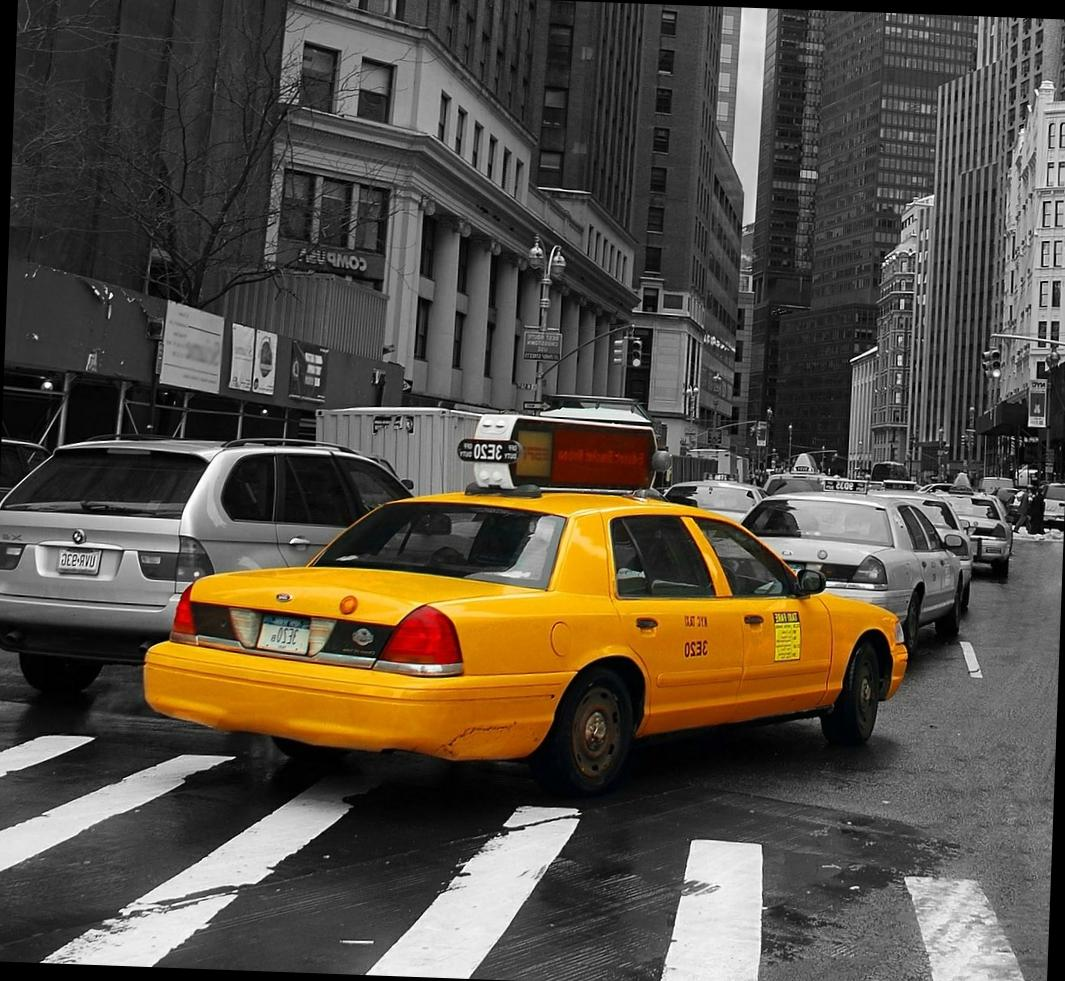taxi: (131, 482, 924, 809)
